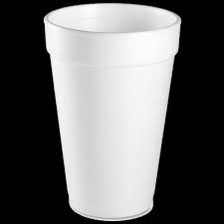paper_cup: (39, 0, 184, 224)
